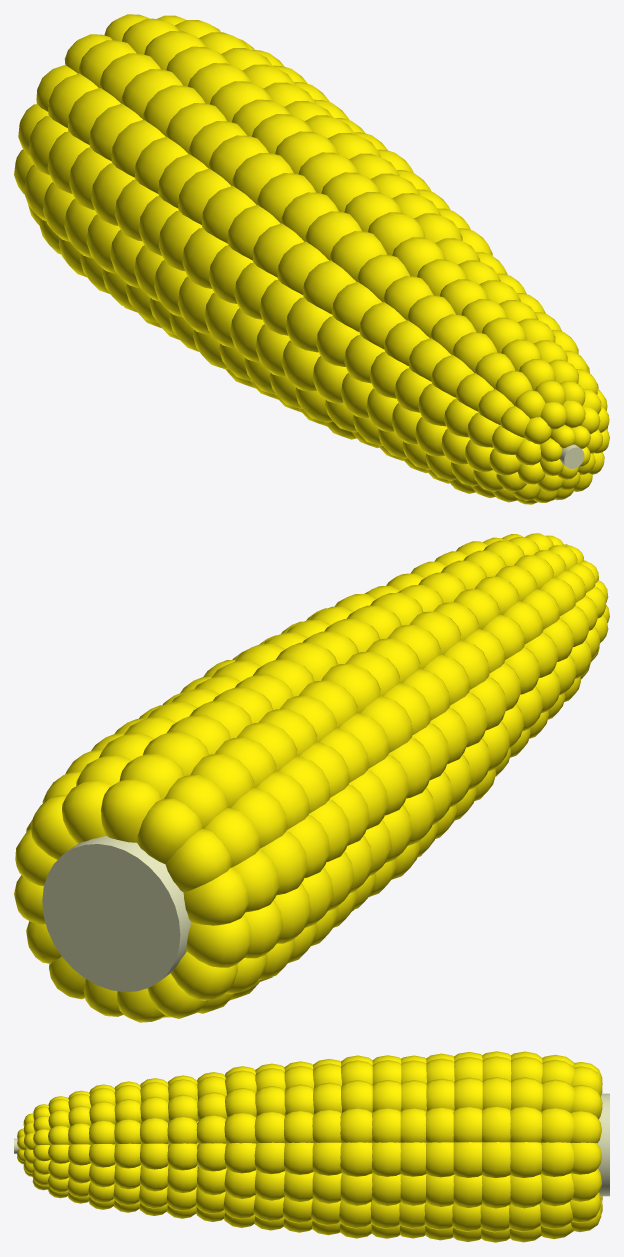
Rendered from corncob.fbx.
The picture shows the model from 3 angles, top to bottom: view 1: azimuth 30°, elevation 25°; view 2: azimuth 150°, elevation 25°; view 3: azimuth 270°, elevation 25°; orthographic projection. The views are drawn at different scales.
Visible parts, largest first — view 1: Cube.006, Cube.002, Cube.003, Cube.017, Cube.016, Cube.005, Cube.004, Cube.001, Cube.018, Cube.007, Cube.019, Cube.008 (+9 smaller); view 2: Cube.037, Cylinder, Cube.036, Cube.019, Cube.018, Cube.002, Cube.017, Cube.001, Cube.016, Cube, Cube.004, Cube.005 (+9 smaller); view 3: Cube.019, Cube.002, Cube.036, Cube.018, Cube.017, Cube.001, Cube.016, Cube.003, Cube.004, Cube.006, Cube.005, Cube.037 (+10 smaller).
Boxes of the visible parts, x1,y1,x2,y2 form: Cube.006: [282, 212, 492, 439]; Cube.002: [177, 131, 413, 388]; Cube.003: [204, 152, 431, 399]; Cube.017: [86, 63, 329, 328]; Cube.016: [110, 81, 349, 339]; Cube.005: [255, 192, 470, 426]; Cube.004: [230, 172, 450, 412]; Cube.001: [154, 114, 387, 369]; Cube.018: [64, 46, 307, 312]; Cube.007: [312, 237, 507, 447]; Cube.019: [43, 31, 284, 294]; Cube.008: [341, 259, 526, 460]; Cube.037: [14, 779, 251, 1022]; Cylinder: [42, 836, 191, 992]; Cube.036: [26, 753, 283, 1017]; Cube.019: [65, 731, 311, 1000]; Cube.018: [91, 715, 333, 981]; Cube.002: [203, 642, 435, 879]; Cube.017: [114, 700, 354, 945]; Cube.001: [180, 659, 412, 911]; Cube.016: [139, 687, 373, 927]; Cube: [162, 674, 391, 909]; Cube.004: [260, 618, 471, 838]; Cube.005: [281, 605, 490, 820]; Cube.019: [509, 1051, 542, 1242]; Cube.002: [339, 1055, 372, 1238]; Cube.036: [539, 1054, 574, 1239]; Cube.018: [480, 1051, 511, 1242]; Cube.017: [452, 1052, 482, 1241]; Cube.001: [370, 1055, 401, 1238]; Cube.016: [424, 1053, 454, 1240]; Cube.003: [311, 1059, 341, 1235]; Cube.004: [283, 1061, 313, 1232]; Cube.006: [223, 1066, 256, 1227]; Cube.005: [253, 1063, 285, 1230]; Cube.037: [570, 1062, 602, 1232].
Size of the model in its own units: 503 by 494 by 1566.
